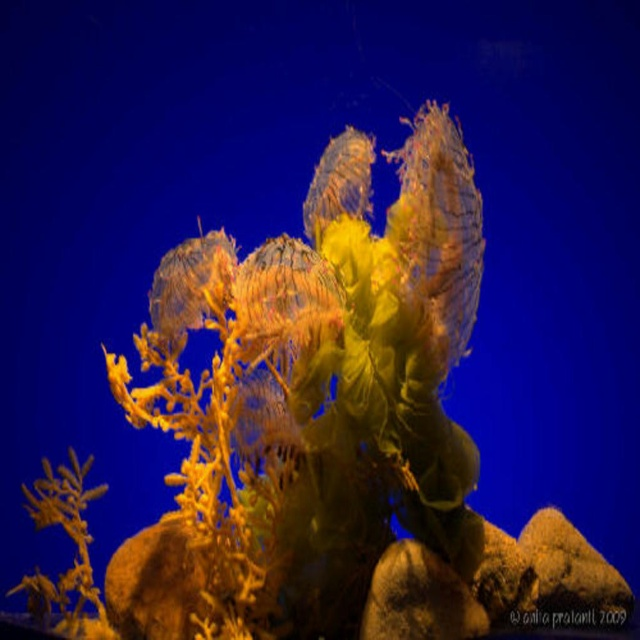Jellyfish: (380, 92, 488, 386)
